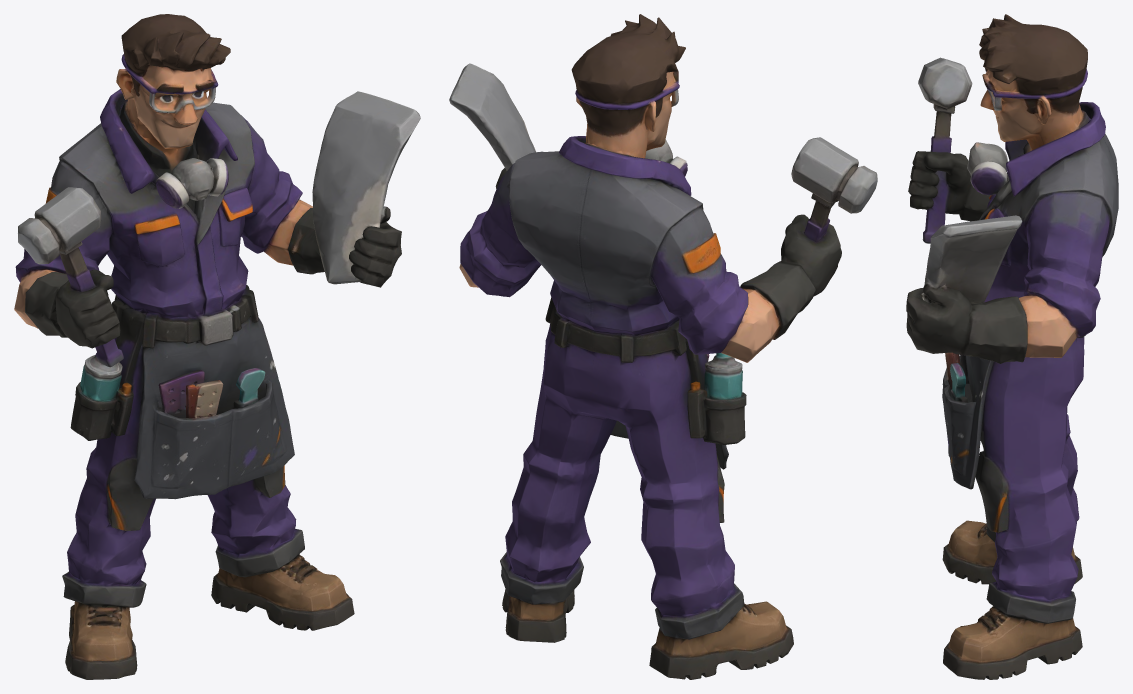
The model's file is body_repair_character_1k_real.glb.
3 views of the same model, side by side, from view 1: azimuth 30°, elevation 25°; view 2: azimuth 150°, elevation 25°; view 3: azimuth 270°, elevation 25° (orthographic). The views are drawn at different scales.
Visible parts, largest first — view 1: tripo_node_45e0bd90-45cb-4383-b577-7d430d565910; view 2: tripo_node_45e0bd90-45cb-4383-b577-7d430d565910; view 3: tripo_node_45e0bd90-45cb-4383-b577-7d430d565910.
Boxes of the visible parts, x1=… form: tripo_node_45e0bd90-45cb-4383-b577-7d430d565910: x1=14, y1=14, x2=420, y2=679; tripo_node_45e0bd90-45cb-4383-b577-7d430d565910: x1=449, y1=14, x2=877, y2=679; tripo_node_45e0bd90-45cb-4383-b577-7d430d565910: x1=906, y1=14, x2=1118, y2=679.
Bounding box in the file's own units: 0.686 × 1 × 0.3258.
Materials: 1 (1 with a texture image).
